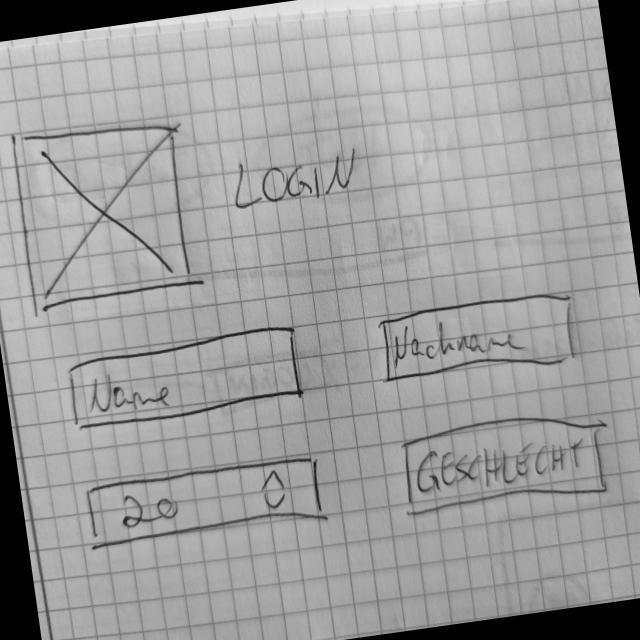image: (8, 112, 201, 315)
input: (60, 322, 310, 436), (372, 287, 581, 388)
label: (226, 142, 368, 215)
number-input: (397, 404, 611, 522), (83, 452, 329, 554)
